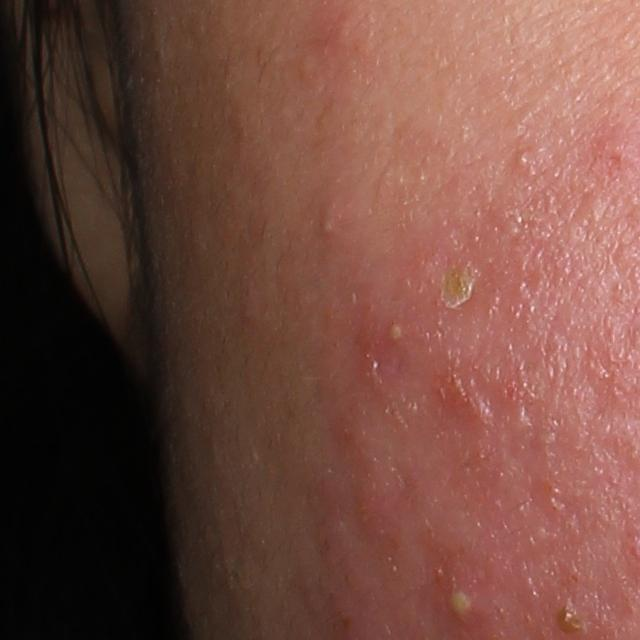pustule: (435, 572, 494, 636), (431, 253, 482, 318), (380, 313, 418, 347)
